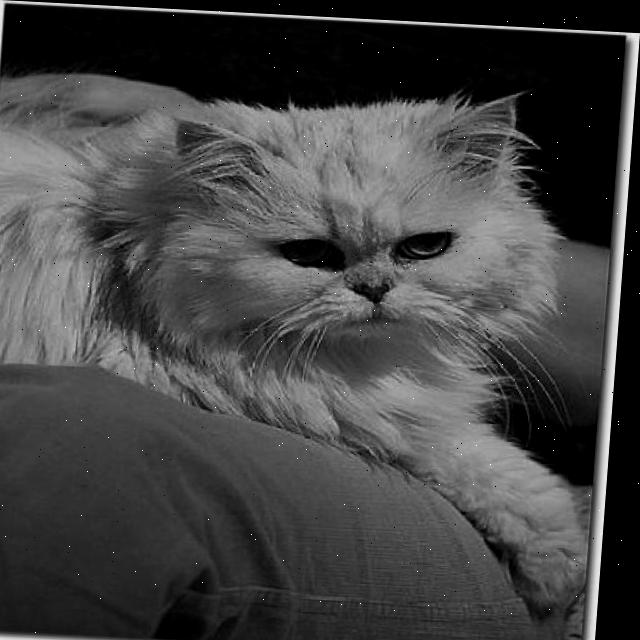Cat: (0, 72, 621, 618)
